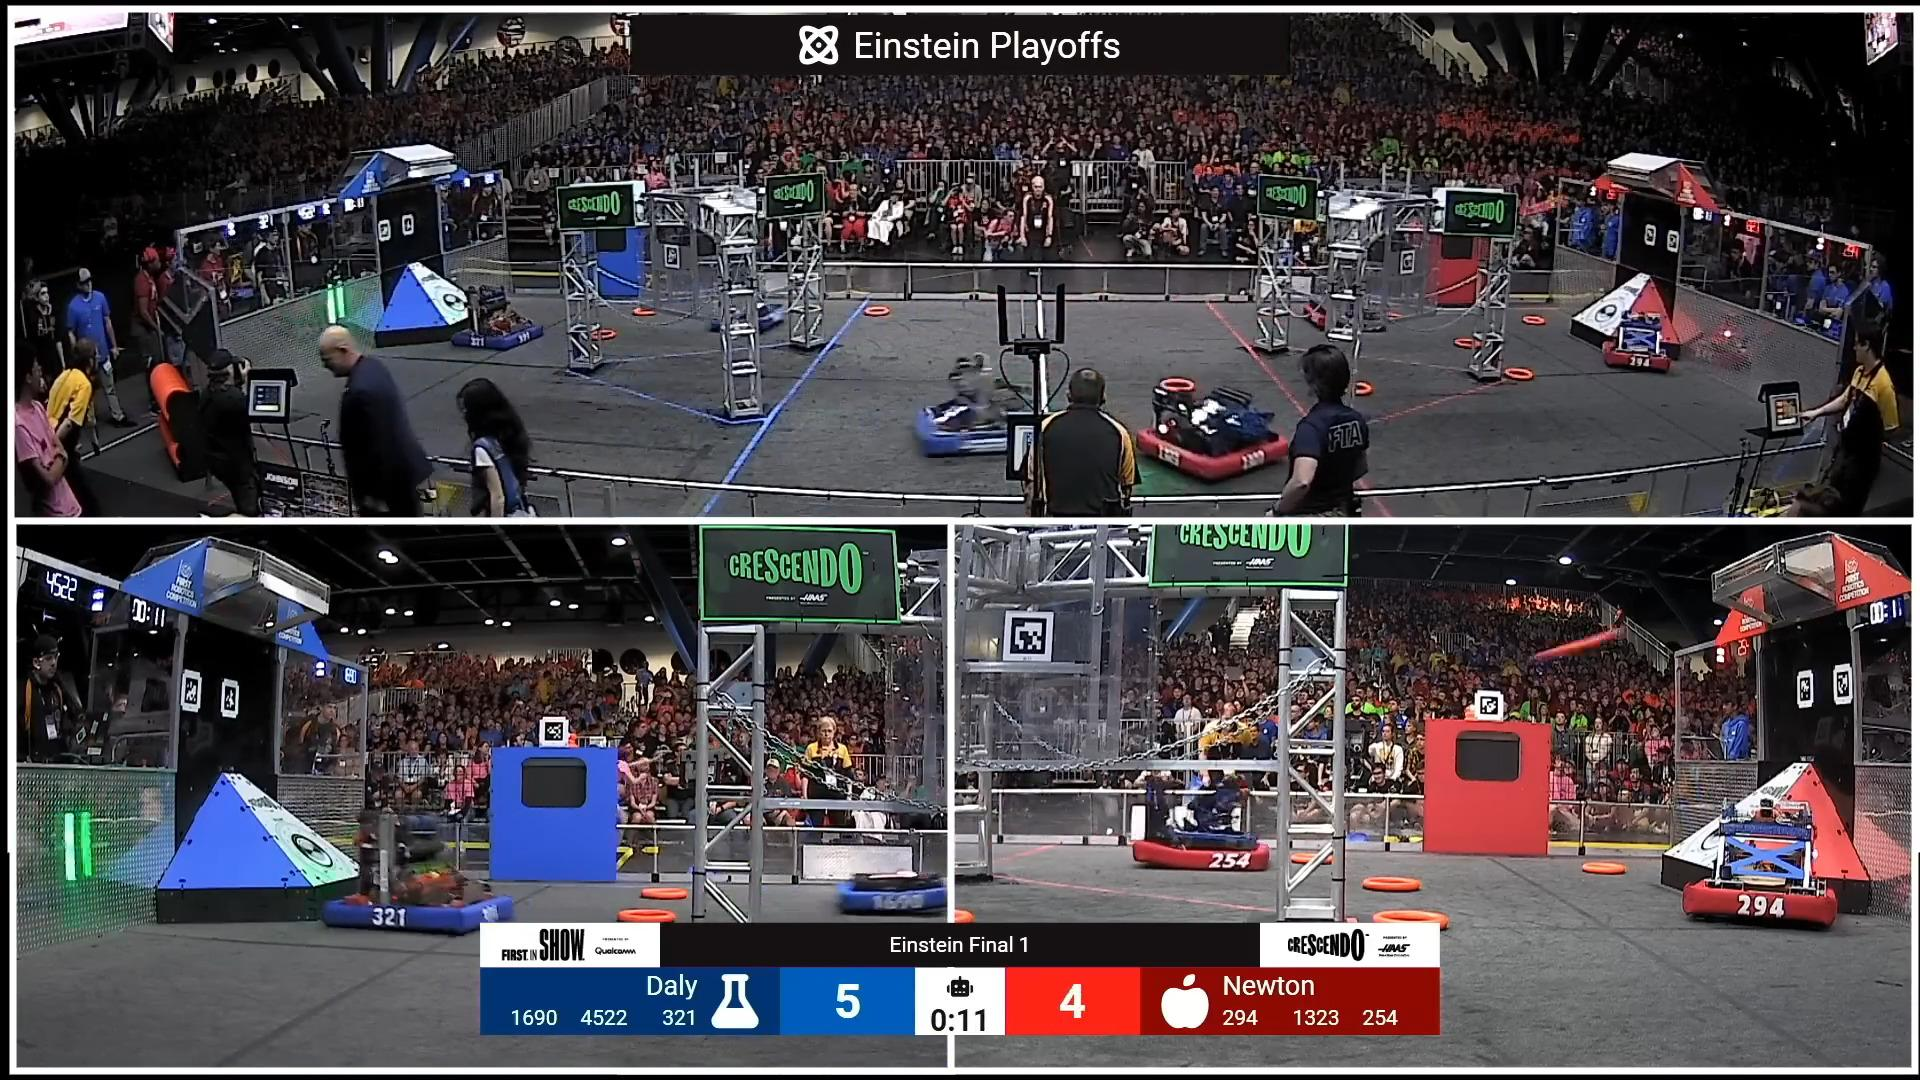blue_idle: (895, 349, 1034, 452), (833, 860, 945, 915)
blue_shooting: (313, 793, 516, 932), (442, 278, 559, 359)
note: (1360, 860, 1422, 905), (1374, 902, 1462, 930), (858, 294, 902, 335), (632, 874, 692, 903), (1578, 851, 1636, 878), (615, 905, 679, 923), (1452, 332, 1490, 363), (585, 320, 618, 351), (1502, 360, 1536, 388), (1348, 371, 1373, 398), (622, 299, 655, 318), (1520, 305, 1545, 328)
red_idle: (1124, 767, 1273, 877), (1124, 386, 1294, 476), (1298, 284, 1391, 339)
red_shooting: (1673, 778, 1857, 936), (1598, 302, 1679, 381)
